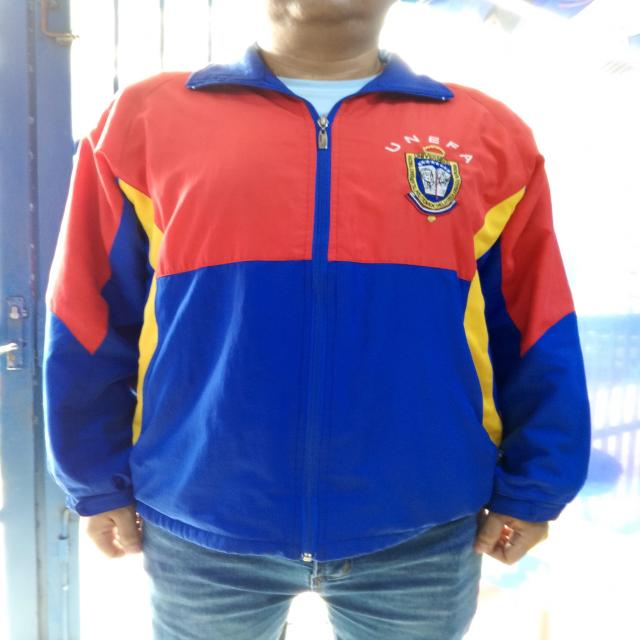chaqueta_unefa: (41, 40, 594, 563)
